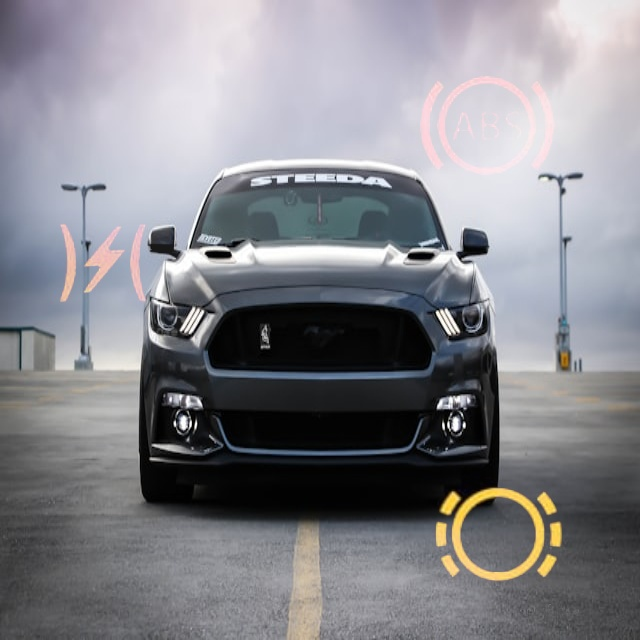symbol: (390, 31, 583, 224), (409, 447, 587, 625), (23, 183, 184, 344)
